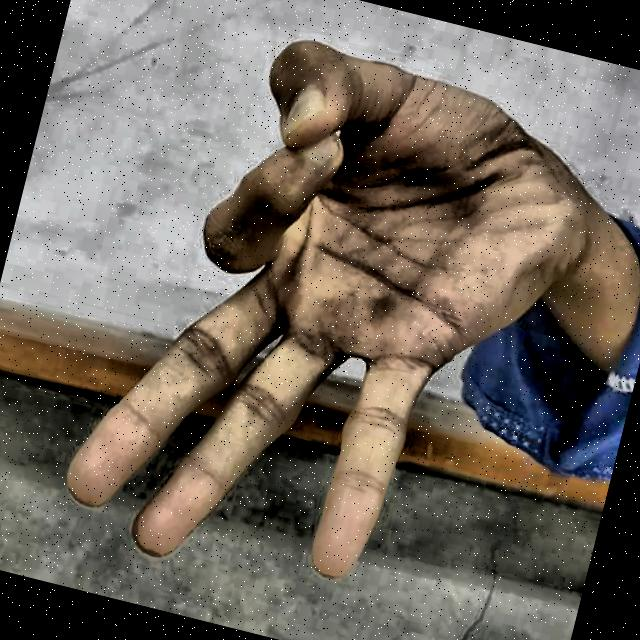Fa: (25, 0, 634, 640)
